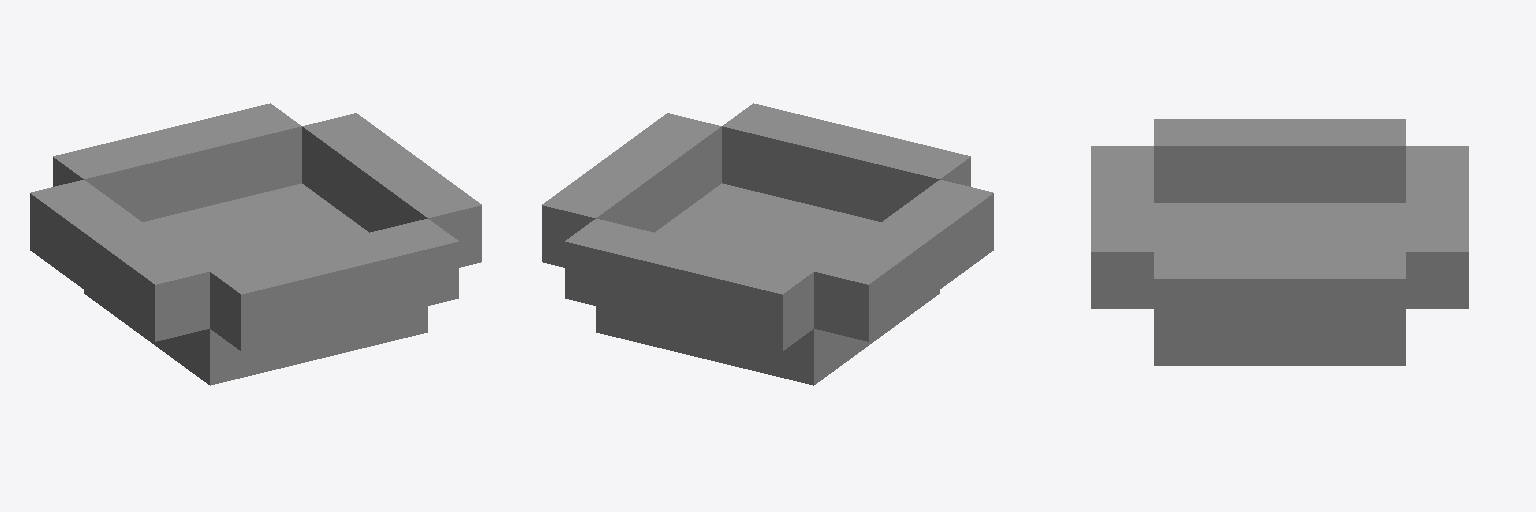
3 views of the same model, side by side, from view 1: azimuth 30°, elevation 25°; view 2: azimuth 150°, elevation 25°; view 3: azimuth 270°, elevation 25° (orthographic).
Parts seen in each view (by area): view 1: TARELKA; view 2: TARELKA; view 3: TARELKA.
Part boxes in pixels (x1,y1,x2,y2): TARELKA: (30, 103, 481, 385); TARELKA: (542, 103, 993, 385); TARELKA: (1091, 119, 1468, 365).
Size of the model in its own units: 0.6 by 0.2 by 0.6.
Materials: 1 (1 with a texture image).